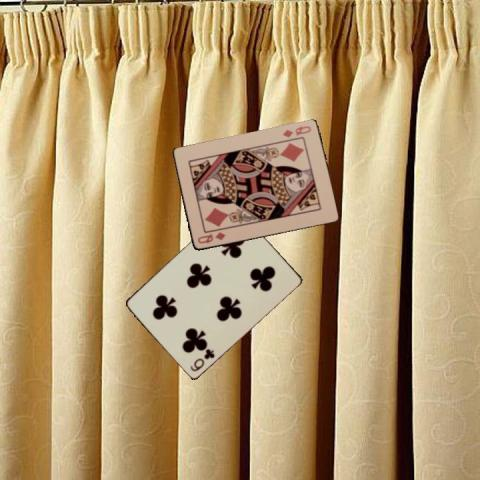6c: (187, 345, 216, 373)
Qd: (194, 230, 226, 246), (280, 124, 312, 140)
